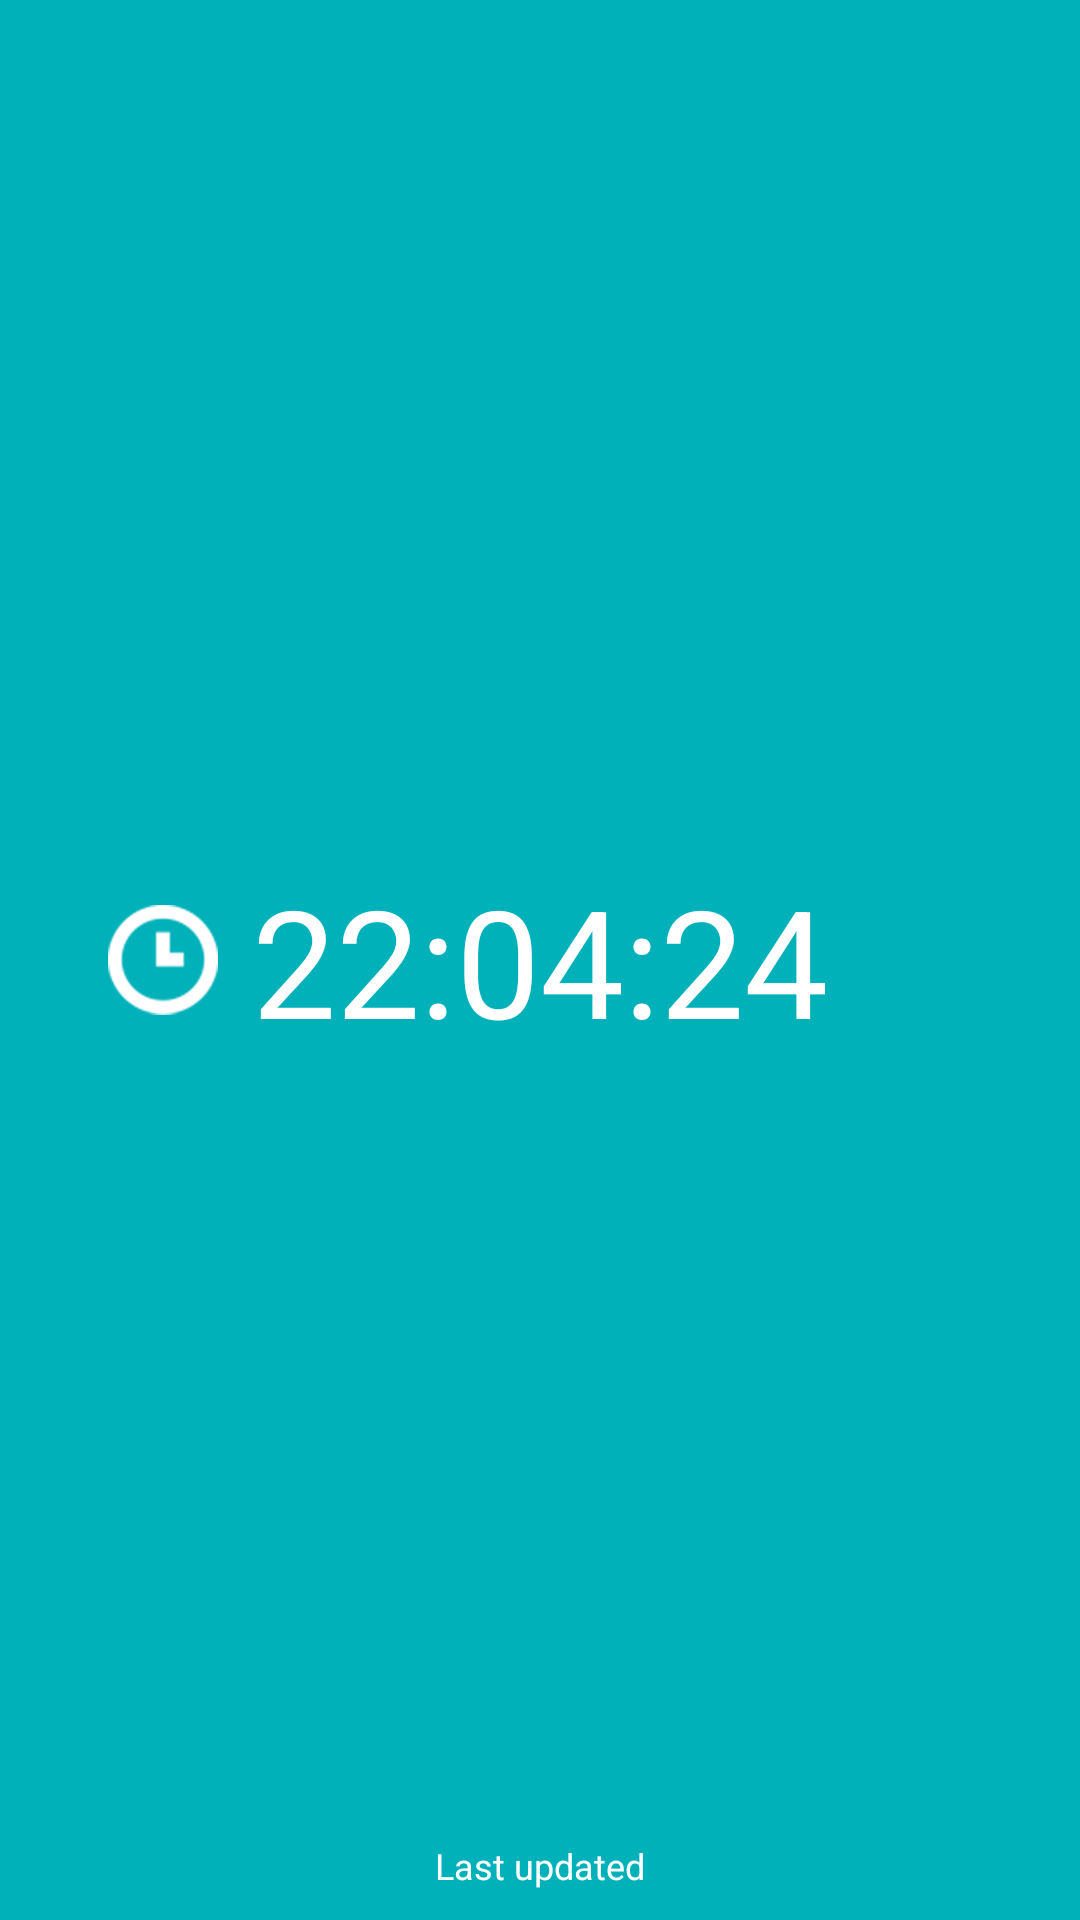

Locate icon controls on the screen. Image size 1080×1920, boxes as region(x1, y1, x2, y2).
clock: region(108, 905, 218, 1015)
